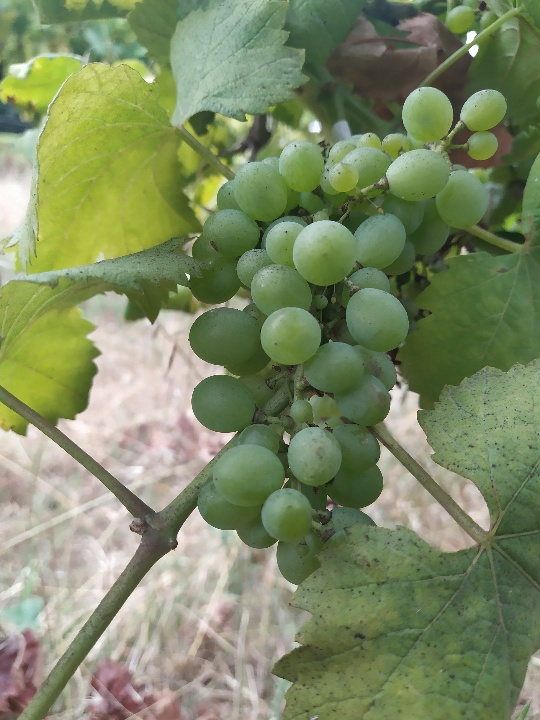grape: (184, 85, 510, 588)
